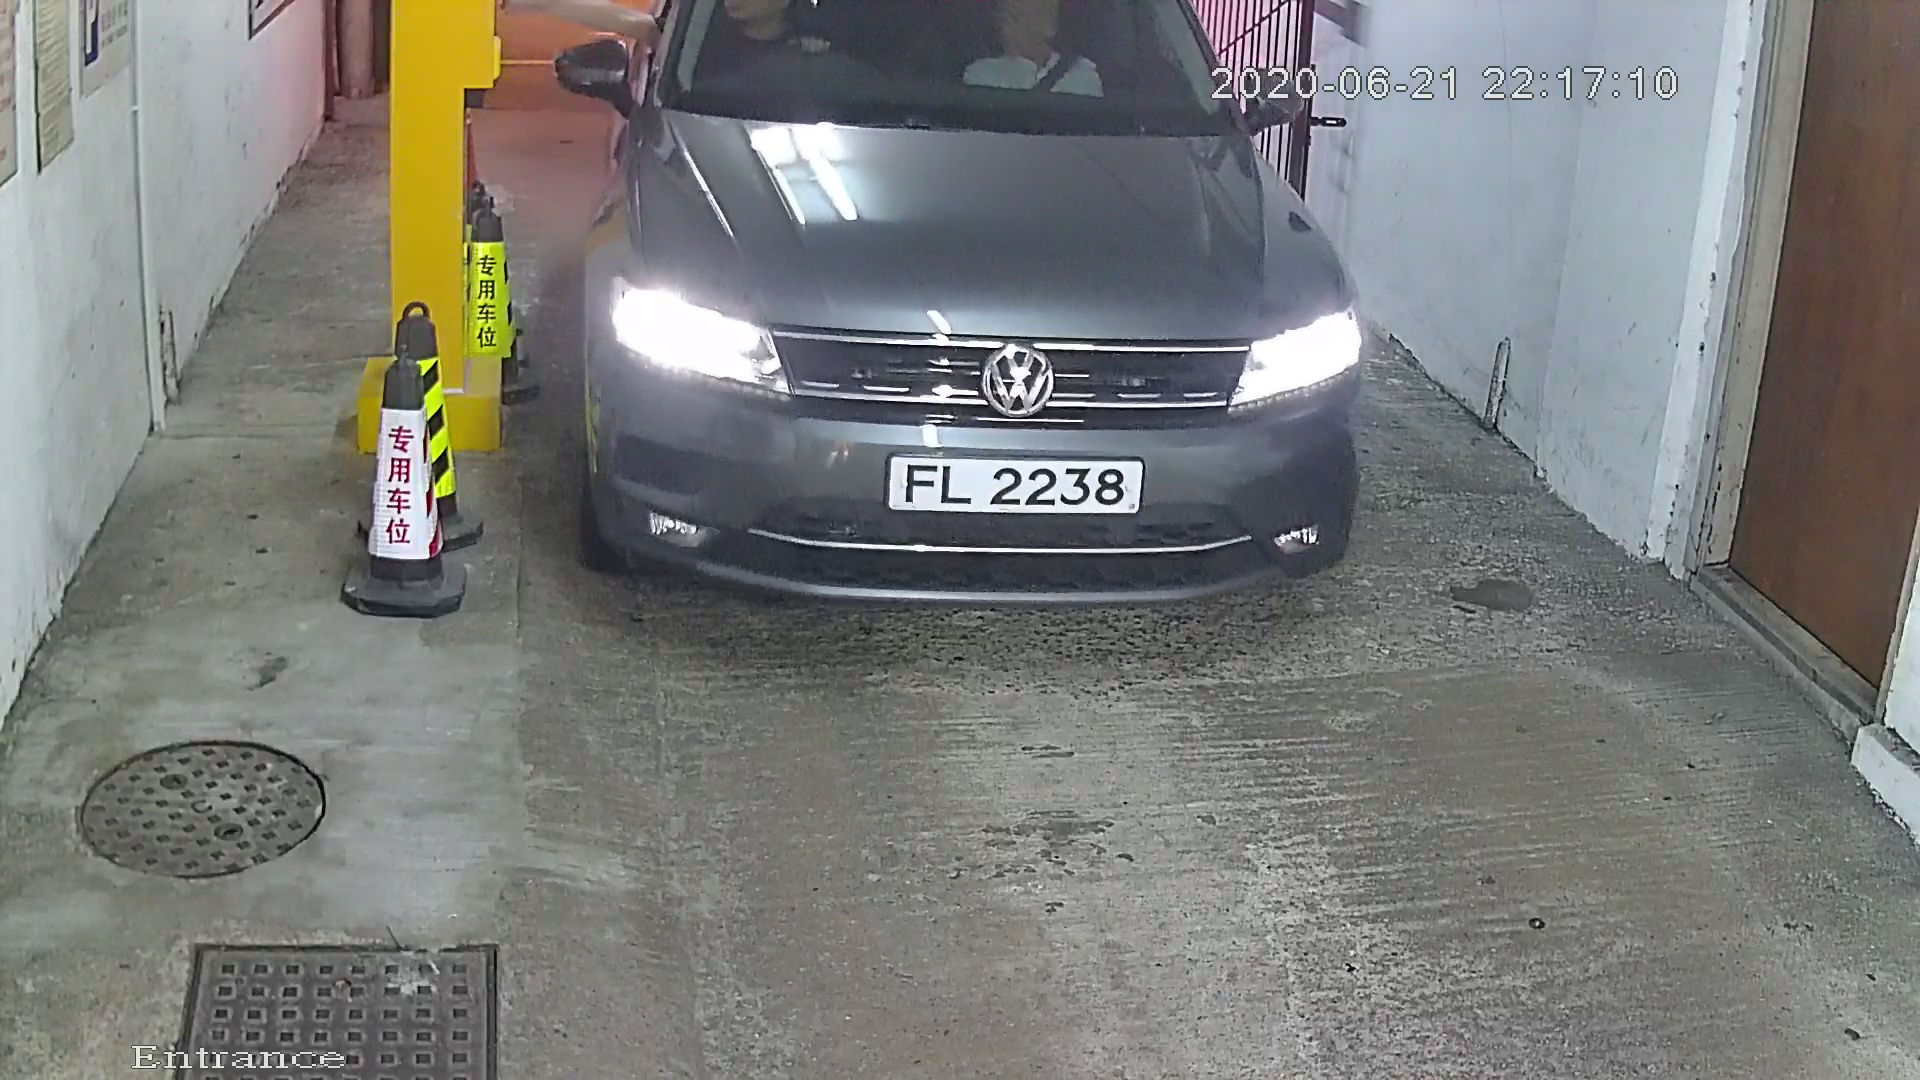privatecar: (556, 3, 1456, 682)
